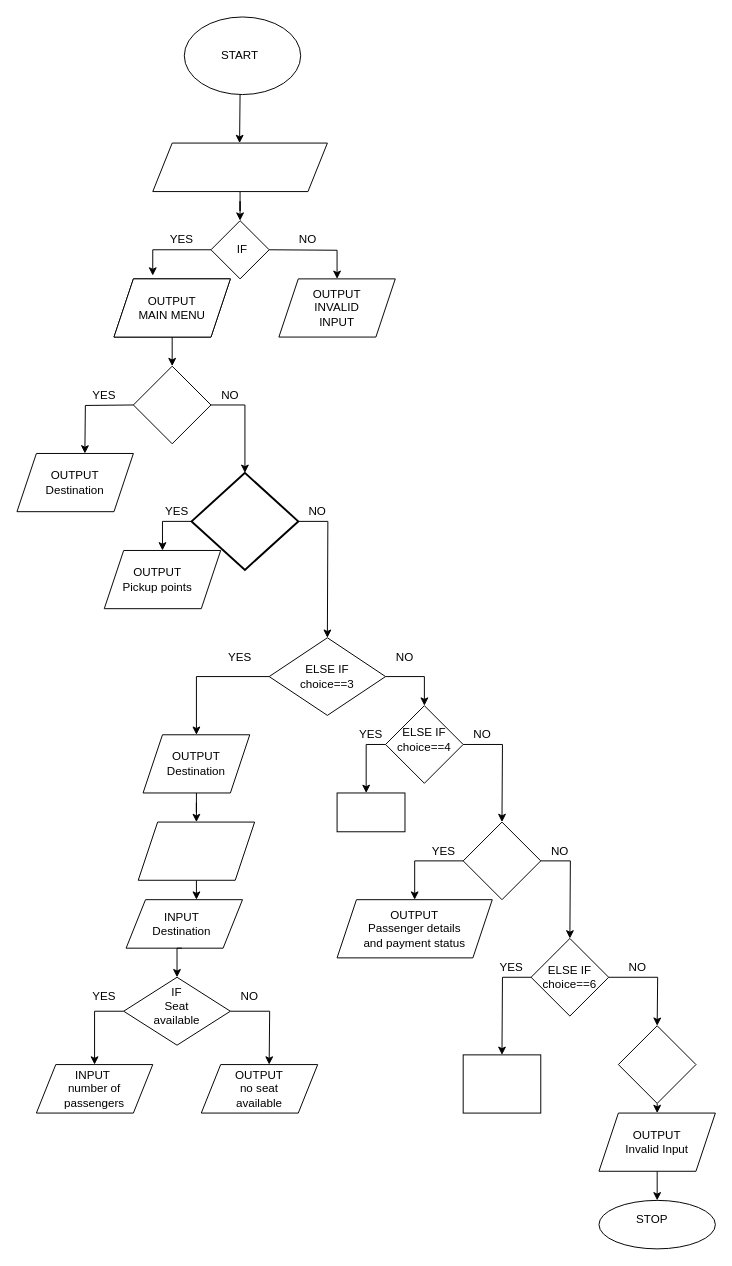
Some shapes in this 732 by 1266 pixel diagram are drawn without their labels. The centre of each missing label's shape, as x and y in pixels:
"Billing" belongs at [370,812].
"Else" belongs at [656,1064].
"ELSE IF choice==2" belongs at [244,520].
"ELSE IF choice==5" belongs at [501,860].
"EXIT" belongs at [501,1083].
"IF choice==1" belongs at [171,404].
"INPUT Passenger name" belongs at [196,850].
"INPUT username and password" belongs at [239,167].
